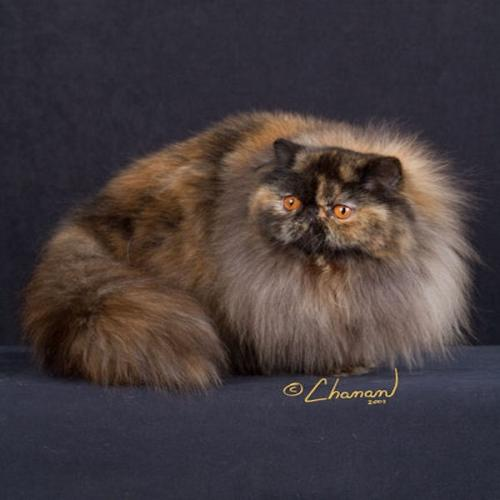persian: (231, 129, 427, 286)
